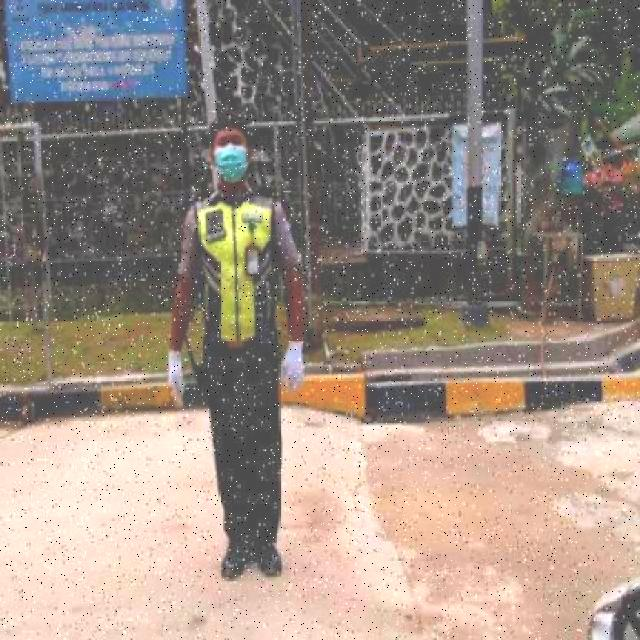Boots: (218, 535, 253, 583), (252, 542, 286, 582)
Gloves: (278, 338, 310, 400), (164, 346, 188, 414)
Helmet: (580, 564, 638, 640)
